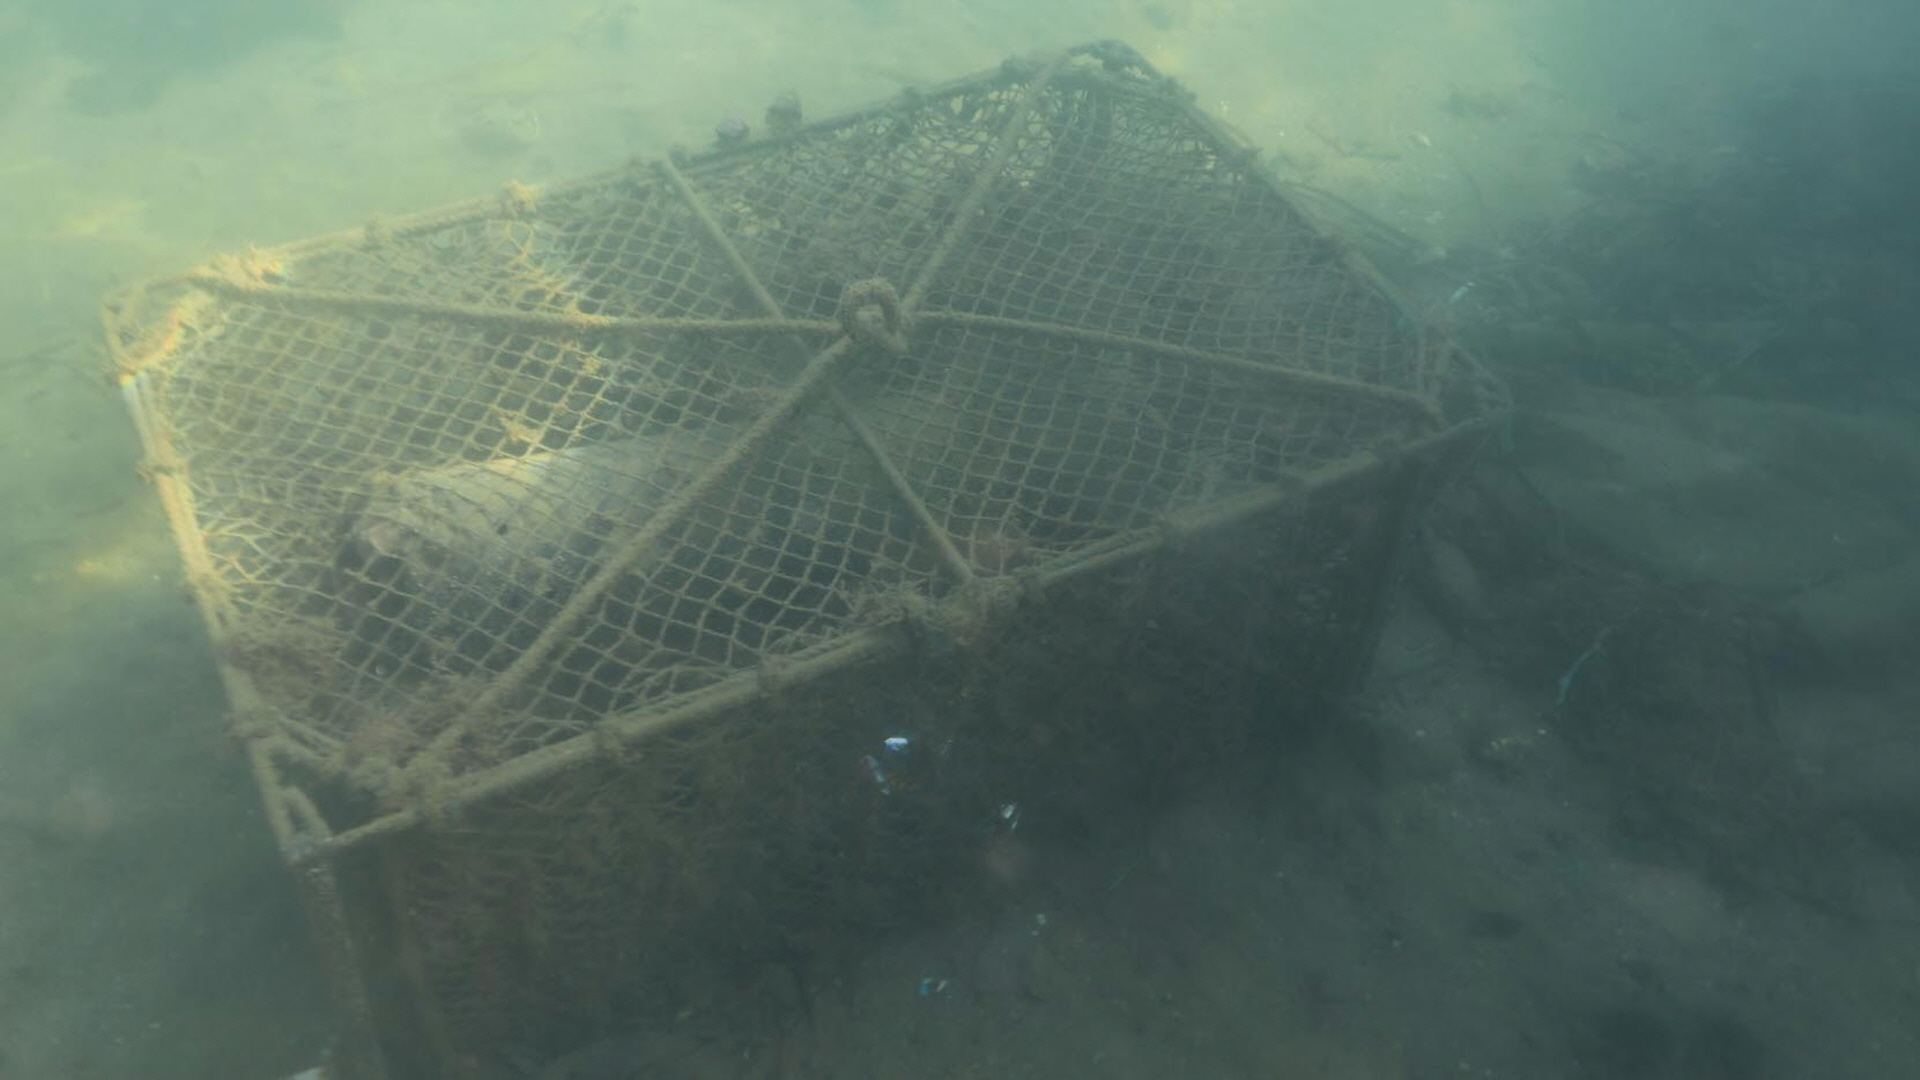rectangular fish trap: (94, 36, 1520, 1080)
